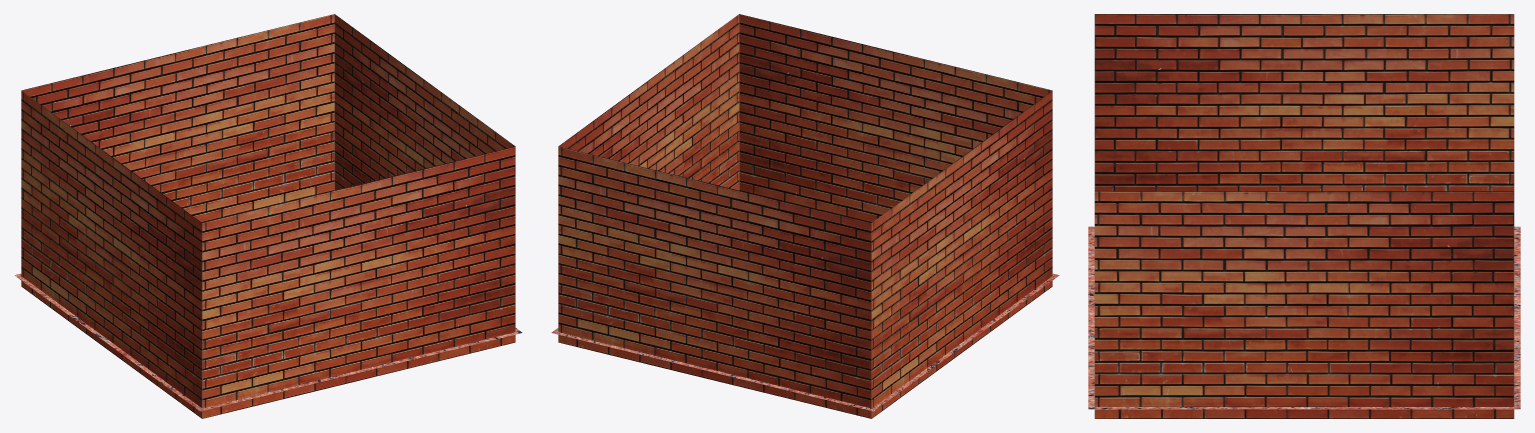
File: Walls.fbx
The picture shows the model from 3 angles, left to right: view 1: azimuth 30°, elevation 25°; view 2: azimuth 150°, elevation 25°; view 3: azimuth 270°, elevation 25°; orthographic projection. The views are drawn at different scales.
Visible parts, largest first — view 1: Walls; view 2: Walls; view 3: Walls.
Boxes of the visible parts, x1,y1,x2,y2 form: Walls: (14, 14, 522, 418); Walls: (551, 14, 1059, 418); Walls: (1088, 14, 1520, 418).
Size of the model in its own units: 514 by 299 by 514.
2 materials, 2 textured.
